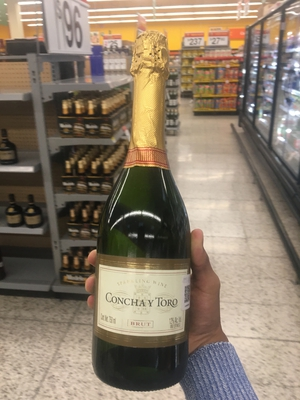brut: (89, 28, 208, 388)
